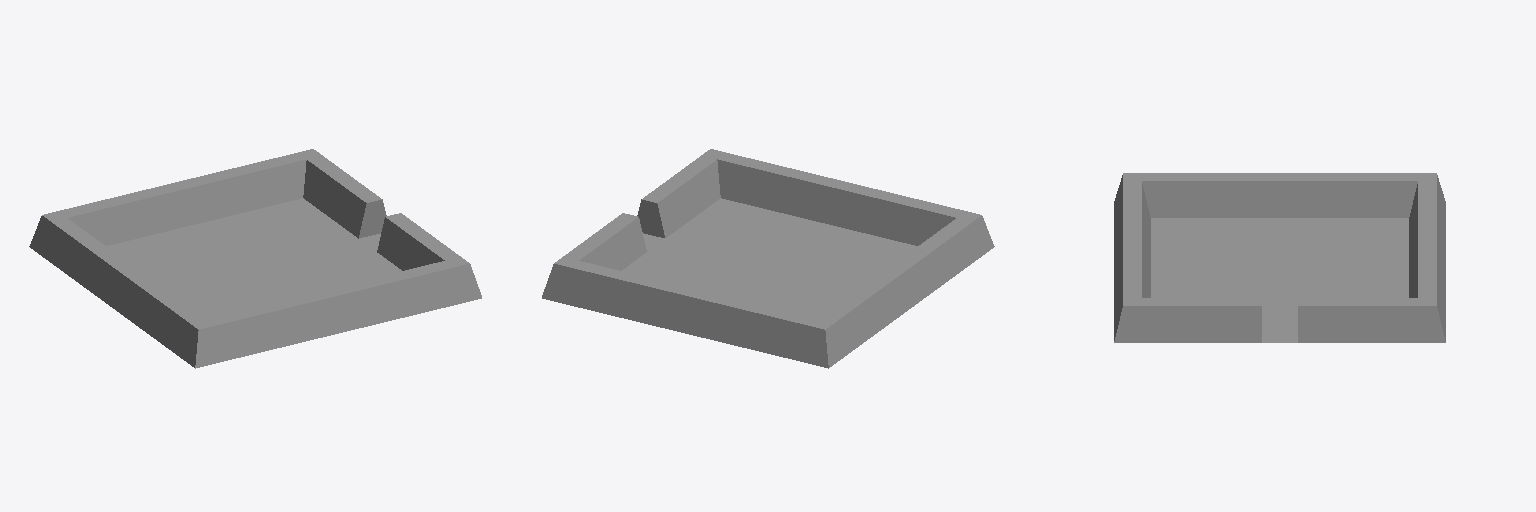
File: sala_4.obj
The picture shows the model from 3 angles: view 1: azimuth 30°, elevation 25°; view 2: azimuth 150°, elevation 25°; view 3: azimuth 270°, elevation 25°; orthographic projection.
Parts seen in each view (by area): view 1: Ground_Plane, Wall.004_Cube.015, Wall.006_Cube.016, Wall.001_Cube.012, Wall.003_Cube.010, Wall.002_Cube.014, Wall.005_Cube.002, Wall.000_Cube.011, Wall.007_Cube.017; view 2: Ground_Plane, Wall.003_Cube.010, Wall.001_Cube.012, Wall.006_Cube.016, Wall.004_Cube.015, Wall.005_Cube.002, Wall.002_Cube.014, Wall.007_Cube.017, Wall.000_Cube.011; view 3: Ground_Plane, Wall.000_Cube.011, Wall.007_Cube.017, Wall.005_Cube.002, Wall.002_Cube.014, Wall.003_Cube.010, Wall.004_Cube.015, Wall.001_Cube.012, Wall.006_Cube.016.
Part boxes in pixels (x1,y1,x2,y2): Ground_Plane: (106,198,401,318); Wall.004_Cube.015: (195,290,338,368); Wall.006_Cube.016: (326,261,481,332); Wall.001_Cube.012: (178,149,312,224); Wall.003_Cube.010: (44,182,190,245); Wall.002_Cube.014: (29,215,135,306); Wall.005_Cube.002: (112,269,204,367); Wall.000_Cube.011: (303,149,386,238); Wall.007_Cube.017: (377,213,468,270); Ground_Plane: (622,198,917,318); Wall.003_Cube.010: (685,290,828,368); Wall.001_Cube.012: (542,261,697,332); Wall.006_Cube.016: (711,149,845,224); Wall.004_Cube.015: (833,182,979,245); Wall.005_Cube.002: (888,215,994,306); Wall.002_Cube.014: (819,269,911,367); Wall.007_Cube.017: (637,149,720,238); Wall.000_Cube.011: (555,213,646,270); Ground_Plane: (1151,218,1408,342); Wall.000_Cube.011: (1298,298,1445,342); Wall.007_Cube.017: (1114,298,1261,342); Wall.005_Cube.002: (1124,173,1279,217); Wall.002_Cube.014: (1280,173,1435,217); Wall.003_Cube.010: (1409,173,1445,270); Wall.004_Cube.015: (1114,173,1150,270); Wall.001_Cube.012: (1409,239,1445,340); Wall.006_Cube.016: (1114,239,1150,340).
Size of the model in its own units: 18 by 2 by 18.